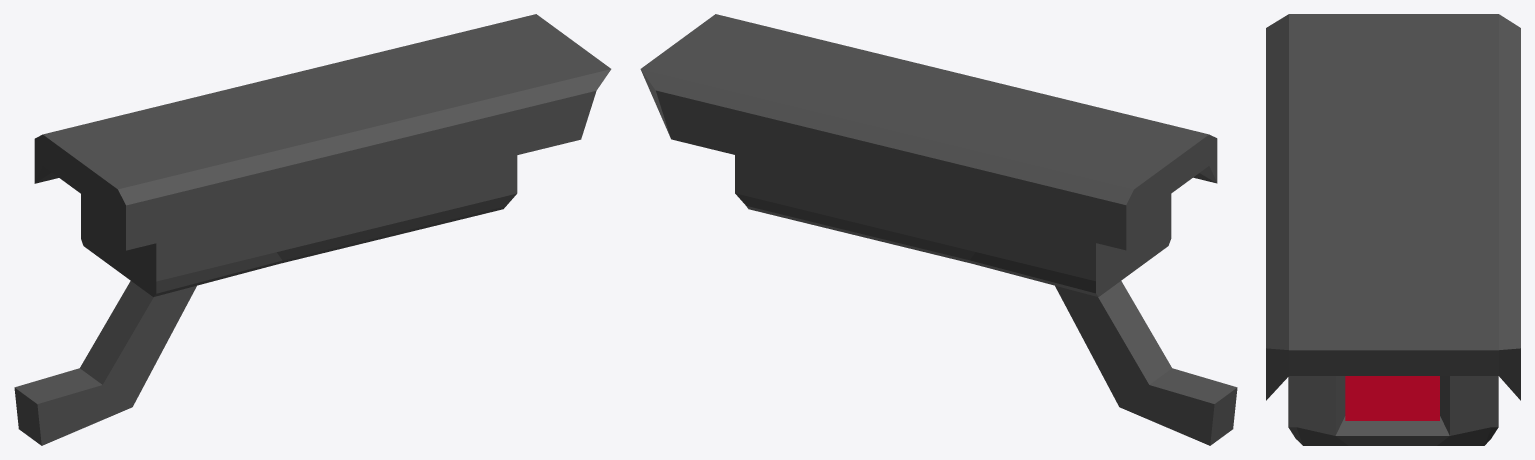
The model's file is security-camera.fbx.
3 renders of one model, left to right at view 1: azimuth 30°, elevation 25°; view 2: azimuth 150°, elevation 25°; view 3: azimuth 270°, elevation 25°, orthographic. The views are drawn at different scales.
Visible parts, largest first — view 1: Cube; view 2: Cube; view 3: Cube.
Boxes of the visible parts, <box> form: Cube: <box>14,14,611,445</box>; Cube: <box>640,14,1237,445</box>; Cube: <box>1266,14,1520,445</box>.
Size of the model in its own units: 398 by 183 by 115.
